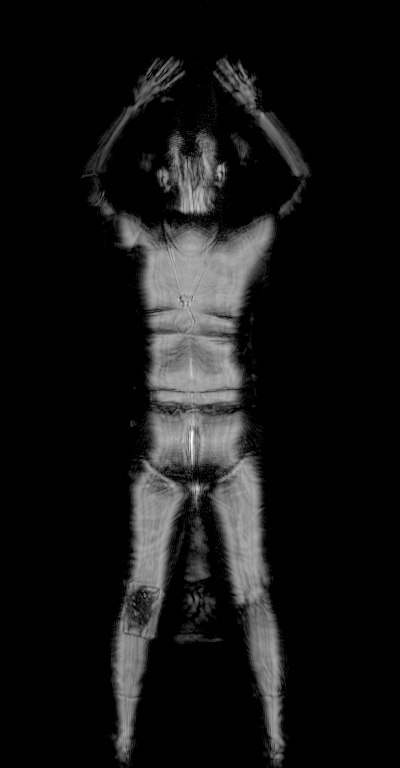head: (152, 125, 232, 199)
others: (115, 578, 166, 643)
person: (78, 53, 313, 768)
